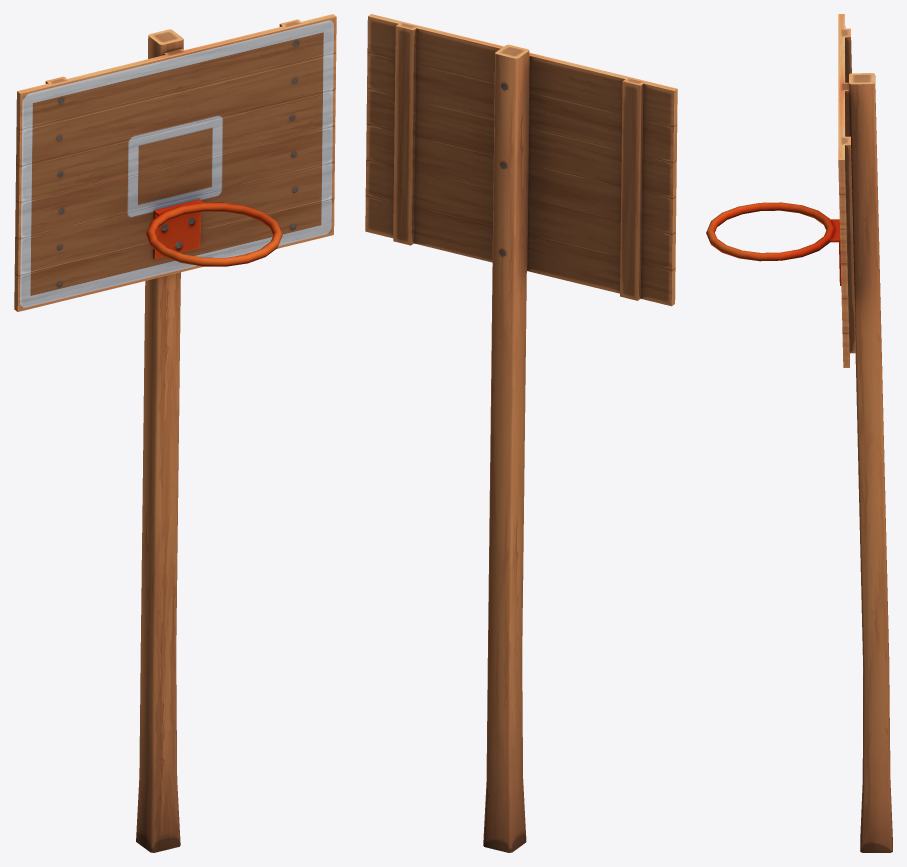
Rendered from BasketballHoop01.FBX.
3 renders of one model, left to right at view 1: azimuth 30°, elevation 25°; view 2: azimuth 150°, elevation 25°; view 3: azimuth 270°, elevation 25°, orthographic. The views are drawn at different scales.
Parts seen in each view (by area): view 1: BasketballHoop01; view 2: BasketballHoop01; view 3: BasketballHoop01.
Boxes of the visible parts, x1,y1,x2,y2 form: BasketballHoop01: (14, 14, 336, 852); BasketballHoop01: (365, 14, 677, 852); BasketballHoop01: (706, 14, 892, 852).
Size of what is drawn, in the model's own units: 1.72 by 4.23 by 0.9326.
